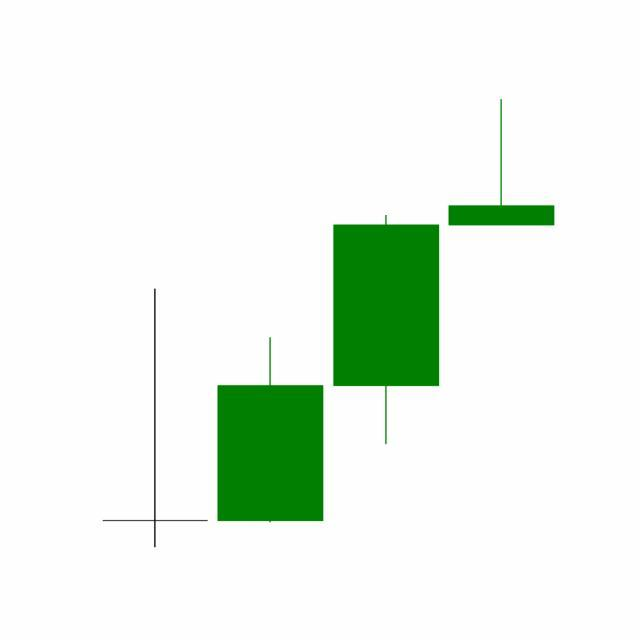Gravestone Doji: (444, 98, 560, 228)
